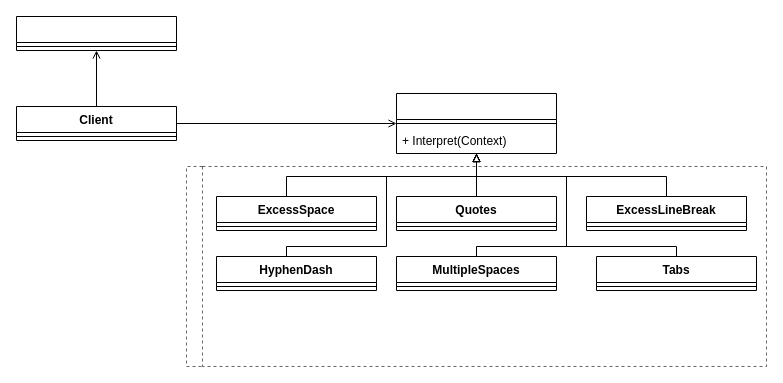
Image size: 783x383. Some labels were removed from this diagram. Here are the shapes that lost their labels. From the top down, the box of each, then its label:
(16, 16, 176, 50): Context
(396, 92, 556, 154): BaseInterpreter
(186, 166, 766, 366): TerminalExpressions
